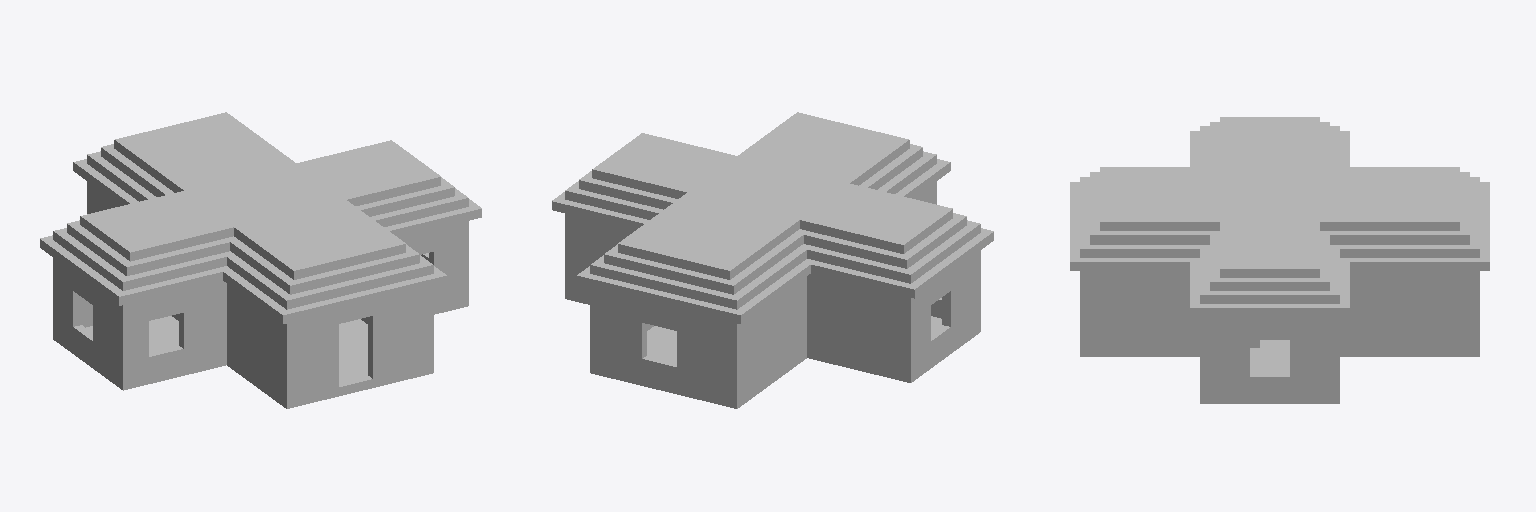
File: house3.obj
3 renders of one model, left to right at view 1: azimuth 30°, elevation 25°; view 2: azimuth 150°, elevation 25°; view 3: azimuth 270°, elevation 25°, orthographic.
Visible parts, largest first — view 1: object 1; view 2: object 1; view 3: object 1.
Part boxes in pixels (left/top/right/bottom): object 1: left=40, top=112, right=481, bottom=408; object 1: left=552, top=112, right=993, bottom=408; object 1: left=1070, top=117, right=1489, bottom=403.
Bounding box in the file's own units: 4.2 × 1.4 × 4.2.